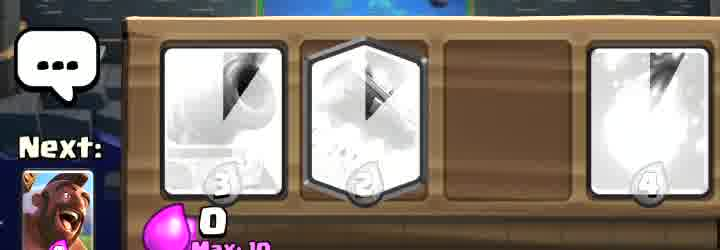hog-rider: (23, 171, 93, 250)
